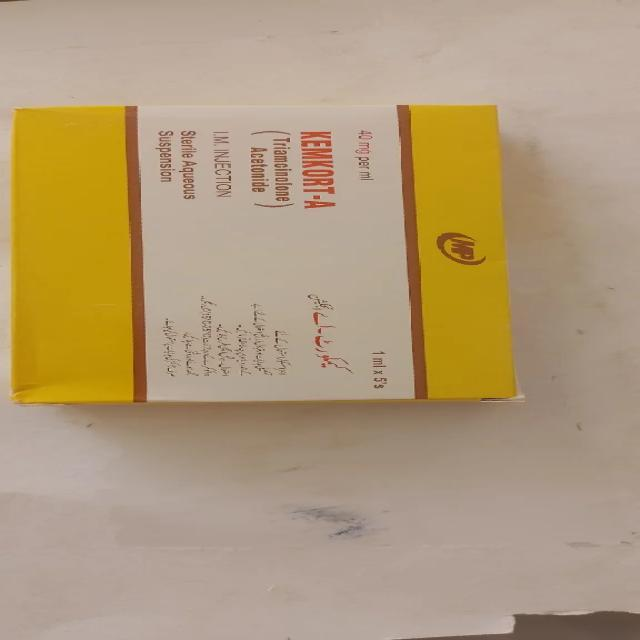drug-name: (296, 124, 341, 214)
